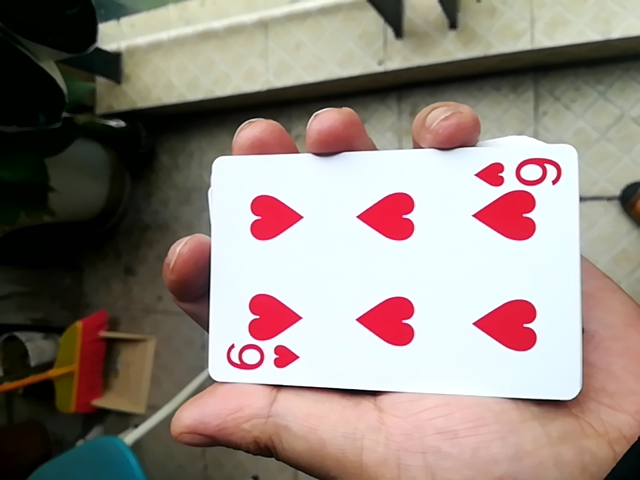hx 6: (189, 137, 576, 402)
